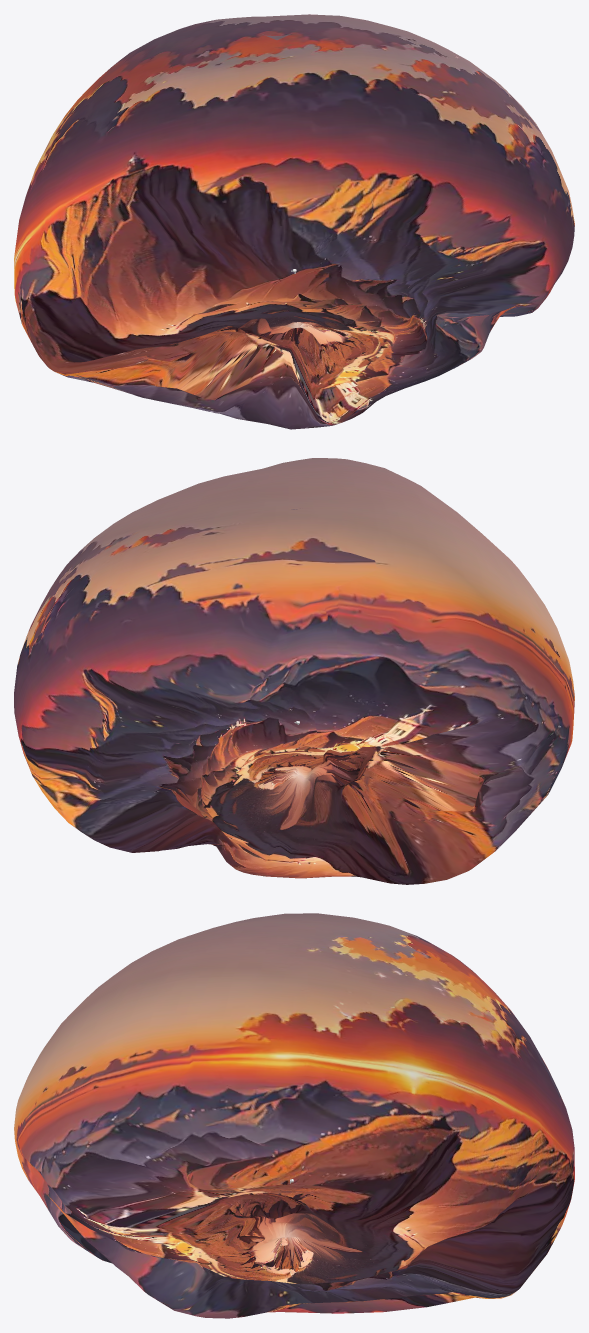
The model's file is sky.glb.
The picture shows the model from 3 angles, top to bottom: view 1: azimuth 30°, elevation 25°; view 2: azimuth 150°, elevation 25°; view 3: azimuth 270°, elevation 25°; orthographic projection. The views are drawn at different scales.
Visible parts, largest first — view 1: Object_2; view 2: Object_2; view 3: Object_2.
Part boxes in pixels (x1,y1,x2,y2): Object_2: [14, 14, 574, 429]; Object_2: [14, 458, 574, 884]; Object_2: [14, 913, 574, 1318].
Size of the model in its own units: 228 by 149 by 223.
Materials: 2 (1 with a texture image).
